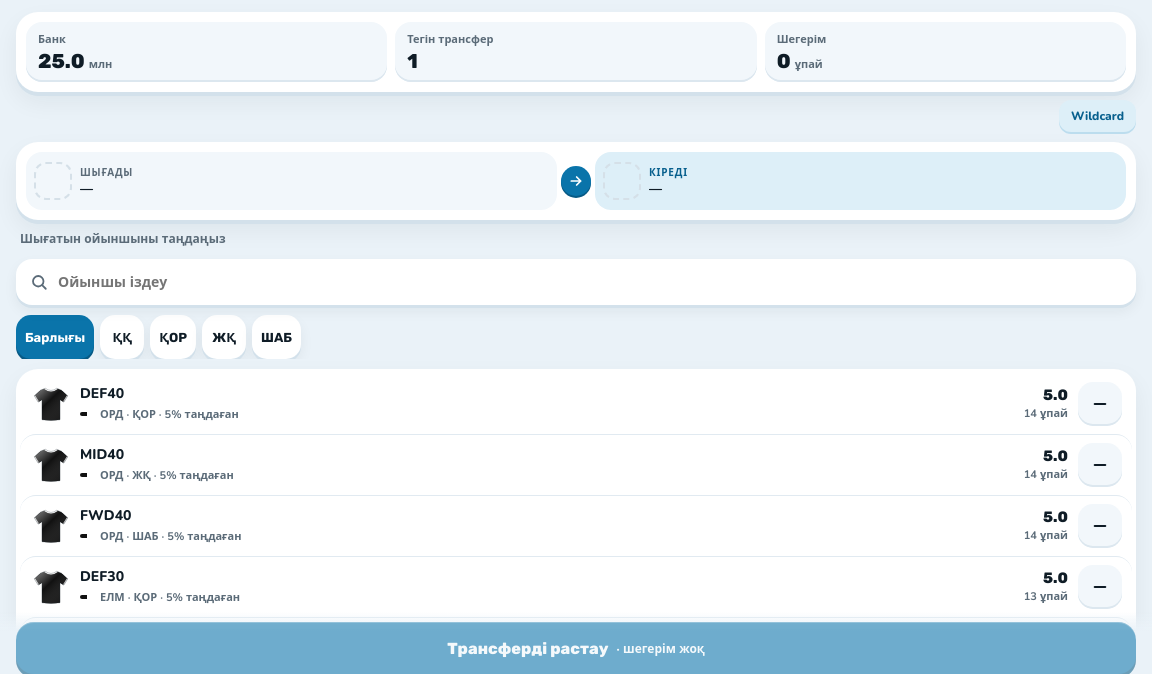
Scenario: Transfer › ошибка сервера deadline_passed показывается текстом
Click the button named "Шығару: DEF40".
click(1100, 404)  # box x1=1078 y1=382 x2=1122 y2=426
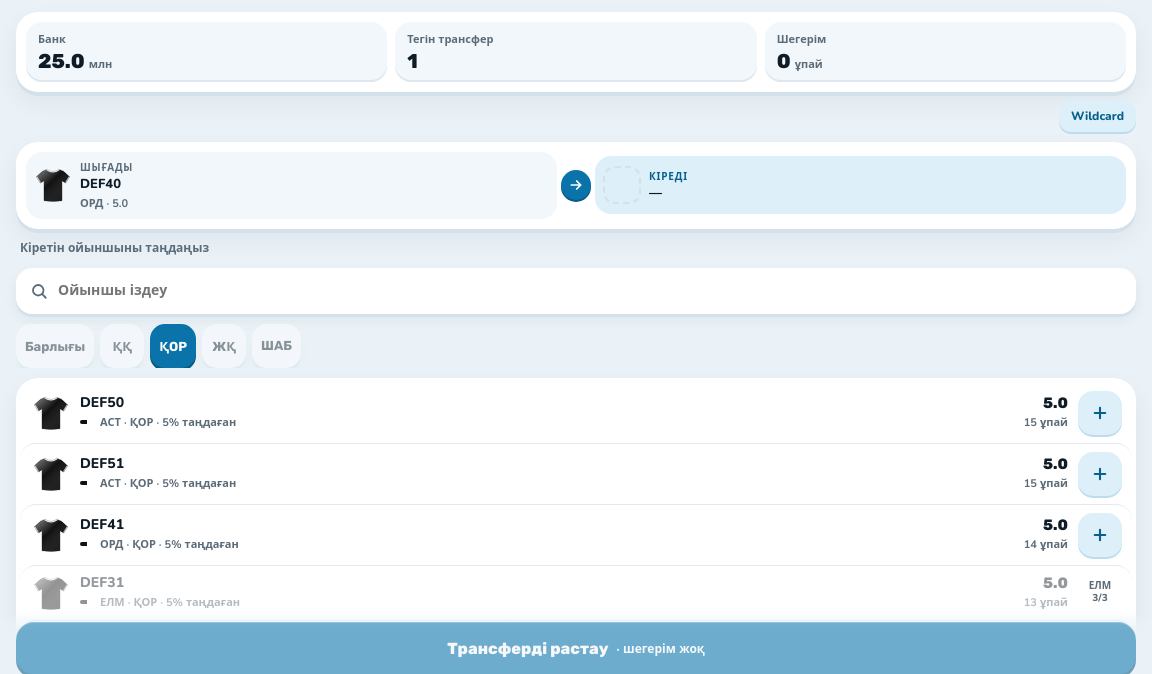
Click the button named "Қосу: DEF50".
click(1100, 413)  # box x1=1078 y1=391 x2=1122 y2=435
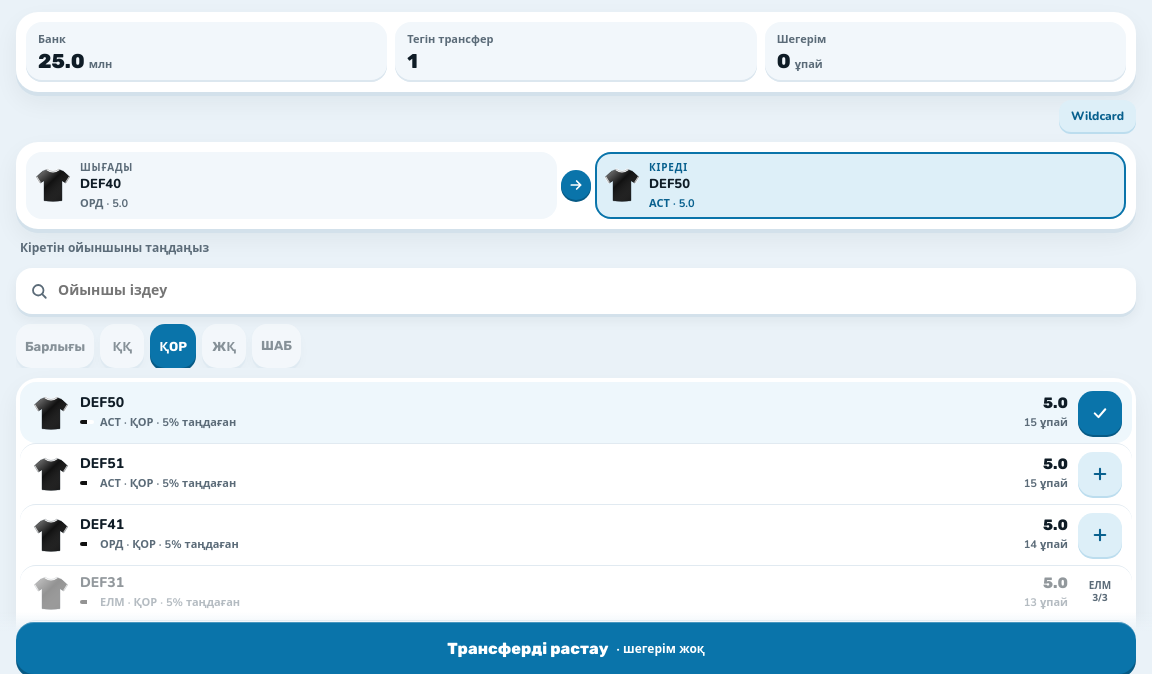
Click the button "Трансферді растау · шегерім жоқ".
click(576, 648)  # box x1=16 y1=622 x2=1136 y2=673
(page scrolled)
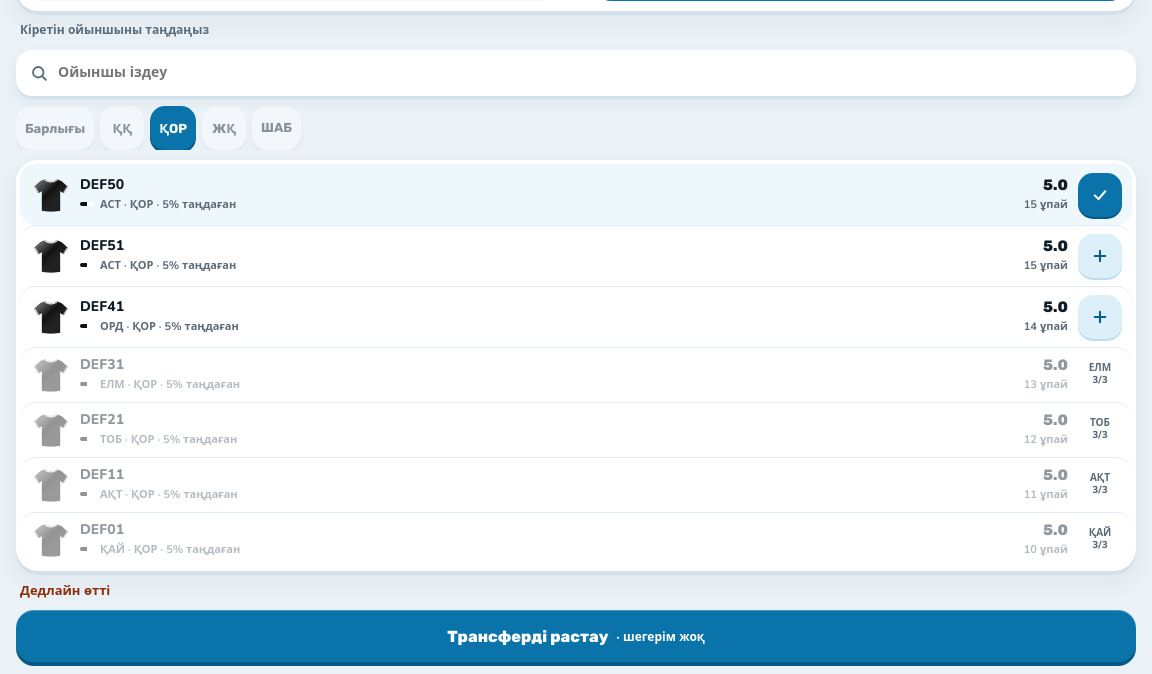
Expected: the text "Дедлайн өтті" is shown, x1=20 y1=582 x2=110 y2=600
